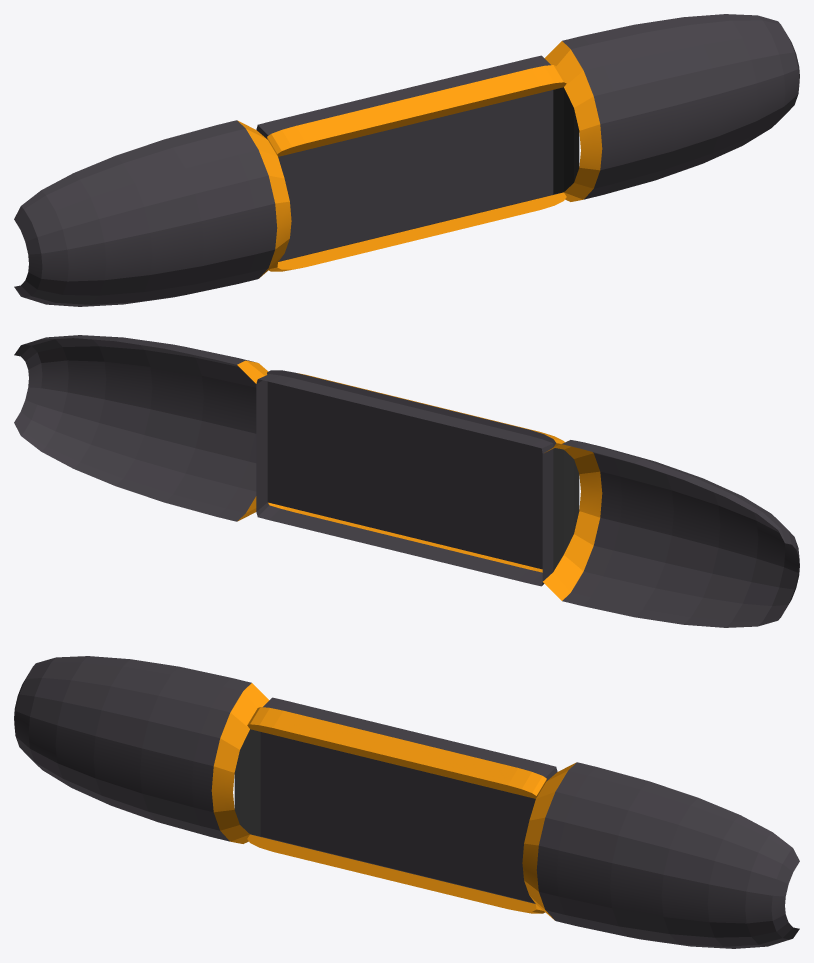
The model's file is Emisor.fbx.
3 views of the same model, one above another, from view 1: azimuth 30°, elevation 25°; view 2: azimuth 150°, elevation 25°; view 3: azimuth 330°, elevation 25° (orthographic).
Parts seen in each view (by area): view 1: Cylinder; view 2: Cylinder; view 3: Cylinder.
Boxes of the visible parts, left/top/right/bottom form: Cylinder: left=14, top=14, right=799, bottom=306; Cylinder: left=14, top=335, right=799, bottom=627; Cylinder: left=14, top=656, right=799, bottom=948.
Size of the model in its own units: 762 by 148 by 68.9.
